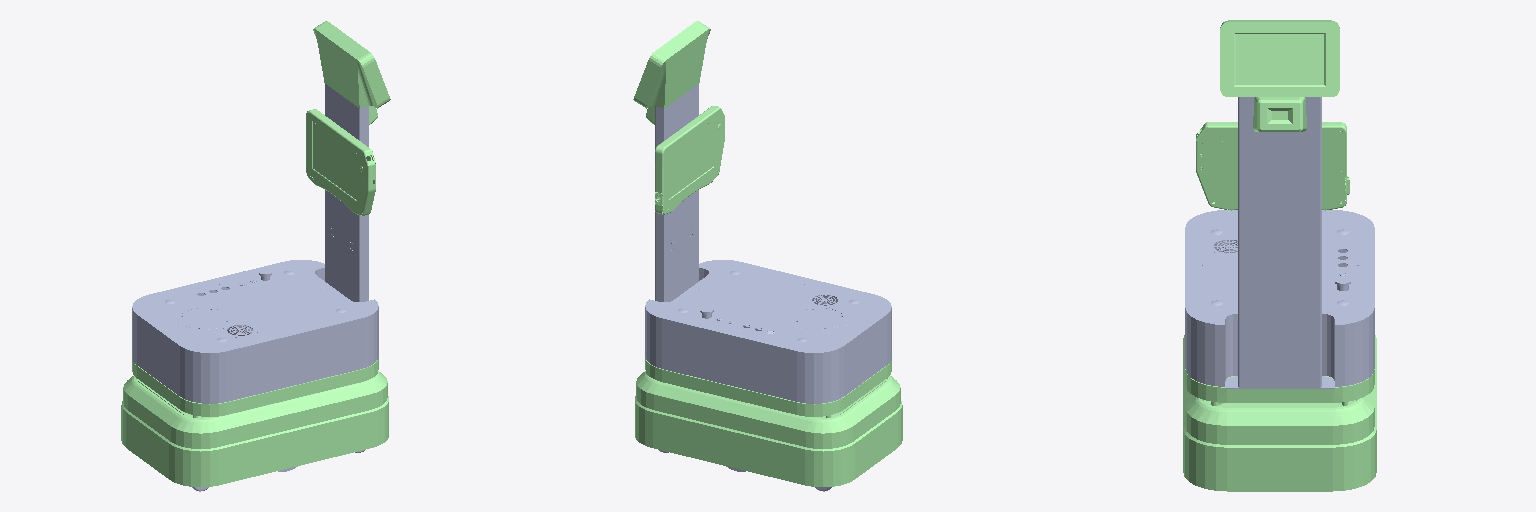
--- Facts derived from the render (not from the file) ---
Views: 3 orthographic renders of the robot side by side, from view 1: azimuth 30°, elevation 25°; view 2: azimuth 150°, elevation 25°; view 3: azimuth 270°, elevation 25°.
Model ax6113final with 14 links and 13 joints (10 continuous, 3 fixed), rooted at base_footprint, posed every joint at zero.
Visible links, largest first — view 1: cabin, chassis; view 2: cabin, chassis; view 3: cabin, chassis.
Link boxes in pixels (box(x1,y1,x2,y2)): cabin: box(132, 84, 378, 403); chassis: box(121, 21, 390, 486); cabin: box(645, 84, 891, 403); chassis: box(633, 21, 902, 486); cabin: box(1185, 97, 1374, 388); chassis: box(1183, 20, 1376, 491).
Bounding box of the posed robot: 0.7432 × 0.46 × 1.24 m (x, y, z).
Meshes: 13 distinct files referenced, 13 mesh visuals loaded (13 binary STL).

URDF robot description (ax6113final):
<?xml version="1.0" encoding="utf-8"?>
<!-- This URDF was automatically created by SolidWorks to URDF Exporter! Originally created by Stephen Brawner ([email redacted]) 
     Commit Version: 1.6.0-4-g7f85cfe  Build Version: 1.6.7995.38578
     For more information, please see http://wiki.ros.org/sw_urdf_exporter -->
<robot
  name="ax6113final">
  <link
    name="base_footprint">

  </link>
  <link
    name="chassis">
    <inertial>
      <origin
        xyz="-0.0061677633792033 -7.36965152760838E-05 0.086667587274659"
        rpy="0 0 0" />
      <mass
        value="119.2695104108364" />
      <inertia
        ixx="0.26409748280951"
        ixy="0.000400164588261267"
        ixz="0.00147157353940033"
        iyy="0.603892272508937"
        iyz="0.000102408582079296"
        izz="0.822504402380331" />
    </inertial>
    <visual>
      <origin
        xyz="0 0 0"
        rpy="0 0 0" />
      <geometry>
        <mesh
          filename="package://ax6113final/meshes/base_link.STL" />
      </geometry>
      <material
        name="">
        <color
          rgba="0.741176470588235 1 0.741176470588235 1" />
      </material>
    </visual>
    <collision>
      <origin
        xyz="0 0 0"
        rpy="0 0 0" />
      <geometry>
        <mesh
          filename="package://ax6113final/meshes/base_link.STL" />
      </geometry>
    </collision>
  </link>
  <joint
    name="base_link_it"
    type="fixed">
    <origin
      xyz="0 0 0"
      rpy="0 0 0" />
    <parent
      link="base_footprint" />
    <child
      link="chassis" />
    <axis
      xyz="0 0 0" />
  </joint>  
  <link
    name="left_wheel">
    <inertial>
      <origin
        xyz="-1.49880108324396E-15 -1.67921232474555E-15 0.0399999999999999"
        rpy="0 0 0" />
      <mass
        value="1.28203160205244" />
      <inertia
        ixx="0.00231577757345468"
        ixy="-4.31280942310315E-20"
        ixz="1.92674672986061E-30"
        iyy="0.00231577757345468"
        iyz="-1.41023922860637E-23"
        izz="0.00362433959821745" />
    </inertial>
    <visual>
      <origin
        xyz="0 0 0"
        rpy="0 0 0" />
      <geometry>
        <mesh
          filename="package://ax6113final/meshes/left_wheel.STL" />
      </geometry>
      <material
        name="">
        <color
          rgba="0.792156862745098 0.819607843137255 0.933333333333333 1" />
      </material>
    </visual>
    <collision>
      <origin
        xyz="0 0 0"
        rpy="0 0 0" />
      <geometry>
        <mesh
          filename="package://ax6113final/meshes/left_wheel.STL" />
      </geometry>
    </collision>
  </link>
  <joint
    name="wheel_left_joint"
    type="continuous">
    <origin
      xyz="-0.00017343 0.122 -0.025"
      rpy="-1.5708 0 0" />
    <parent
      link="chassis" />
    <child
      link="left_wheel" />
    <axis
      xyz="0 0 1" />

  </joint>
  <link
    name="right_wheel">
    <inertial>
      <origin
        xyz="-1.49880108324396E-15 1.67921232474555E-15 0.04"
        rpy="0 0 0" />
      <mass
        value="1.28203160205243" />
      <inertia
        ixx="0.00231577757345468"
        ixy="-2.39856156124579E-19"
        ixz="3.33907854319744E-20"
        iyy="0.00231577757345468"
        iyz="3.35466292051951E-20"
        izz="0.00362433959821744" />
    </inertial>
    <visual>
      <origin
        xyz="0 0 0"
        rpy="0 0 0" />
      <geometry>
        <mesh
          filename="package://ax6113final/meshes/right_wheel.STL" />
      </geometry>
      <material
        name="">
        <color
          rgba="0.792156862745098 0.819607843137255 0.933333333333333 1" />
      </material>
    </visual>
    <collision>
      <origin
        xyz="0 0 0"
        rpy="0 0 0" />
      <geometry>
        <mesh
          filename="package://ax6113final/meshes/right_wheel.STL" />
      </geometry>
    </collision>
  </link>
  <joint
    name="wheel_right_joint"
    type="continuous">
    <origin
      xyz="-0.00017343 -0.122 -0.025"
      rpy="1.5708 0 0" />
    <parent
      link="chassis" />
    <child
      link="right_wheel" />
    <axis
      xyz="0 0 -1" />

  </joint>
  <link
    name="caster_fl">
    <inertial>
      <origin
        xyz="-9.49507084806456E-05 -1.26961278157367E-08 -0.0220751390633198"
        rpy="0 0 0" />
      <mass
        value="0.050730191615594" />
      <inertia
        ixx="2.13076622270567E-05"
        ixy="-4.77236871564436E-12"
        ixz="-2.15459258559363E-07"
        iyy="2.12936580597202E-05"
        iyz="-3.19013832586914E-11"
        izz="9.21167172451167E-06" />
    </inertial>
    <visual>
      <origin
        xyz="0 0 0"
        rpy="0 0 0" />
      <geometry>
        <mesh
          filename="package://ax6113final/meshes/caster_fl.STL" />
      </geometry>
      <material
        name="">
        <color
          rgba="0.792156862745098 0.819607843137255 0.933333333333333 1" />
      </material>
    </visual>
    <collision>
      <origin
        xyz="0 0 0"
        rpy="0 0 0" />
      <geometry>
        <mesh
          filename="package://ax6113final/meshes/caster_fl.STL" />
      </geometry>
    </collision>
  </link>
  <joint
    name="caster_fl_joint"
    type="continuous">
    <origin
      xyz="0.27024 0.1595 0"
      rpy="0 0 0" />
    <parent
      link="chassis" />
    <child
      link="caster_fl" />
    <axis
      xyz="0 0 -1" />
    <dynamics
      damping="0.01"
      friction="0.5" />
  </joint>
  <link
    name="caster_fl_wheel">
    <inertial>
      <origin
        xyz="0 0 0.0275"
        rpy="0 0 0" />
      <mass
        value="1.17460228082973" />
      <inertia
        ixx="0.000104635302988195"
        ixy="7.06845372568766E-38"
        ixz="-6.13296480894052E-21"
        iyy="0.000104635302988195"
        iyz="-1.83670992315982E-37"
        izz="9.9322531726992E-05" />
    </inertial>
    <visual>
      <origin
        xyz="0 0 0"
        rpy="0 0 0" />
      <geometry>
        <mesh
          filename="package://ax6113final/meshes/caster_fl_wheel.STL" />
      </geometry>
      <material
        name="">
        <color
          rgba="0.792156862745098 0.819607843137255 0.933333333333333 1" />
      </material>
    </visual>
    <collision>
      <origin
        xyz="0 0 0"
        rpy="0 0 0" />
      <geometry>
        <mesh
          filename="package://ax6113final/meshes/caster_fl_wheel.STL" />
      </geometry>
    </collision>
  </link>
  <joint
    name="caster_fl_wheel_joint"
    type="continuous">
    <origin
      xyz="-0.025 -0.0275 -0.067"
      rpy="-1.5708 0 0" />
    <parent
      link="caster_fl" />
    <child
      link="caster_fl_wheel" />
    <axis
      xyz="0 0 -1" />

  </joint>
  <link
    name="caster_fr">
    <inertial>
      <origin
        xyz="-9.49507084806456E-05 -1.26961278296145E-08 -0.0220751390633199"
        rpy="0 0 0" />
      <mass
        value="0.0507301916155941" />
      <inertia
        ixx="2.13076622270568E-05"
        ixy="-4.77236871446618E-12"
        ixz="-2.15459258559358E-07"
        iyy="2.12936580597203E-05"
        iyz="-3.19013832894133E-11"
        izz="9.21167172451168E-06" />
    </inertial>
    <visual>
      <origin
        xyz="0 0 0"
        rpy="0 0 0" />
      <geometry>
        <mesh
          filename="package://ax6113final/meshes/caster_fr.STL" />
      </geometry>
      <material
        name="">
        <color
          rgba="0.792156862745098 0.819607843137255 0.933333333333333 1" />
      </material>
    </visual>
    <collision>
      <origin
        xyz="0 0 0"
        rpy="0 0 0" />
      <geometry>
        <mesh
          filename="package://ax6113final/meshes/caster_fr.STL" />
      </geometry>
    </collision>
  </link>
  <joint
    name="caster_fr_joint"
    type="continuous">
    <origin
      xyz="0.27024 -0.1595 0"
      rpy="0 0 0" />
    <parent
      link="chassis" />
    <child
      link="caster_fr" />
    <axis
      xyz="0 0 1" />
    <dynamics
      damping="0.01"
      friction="0.5" />
  </joint>
  <link
    name="caster_fr_wheel">
    <inertial>
      <origin
        xyz="1.11022302462516E-16 0 0.0275"
        rpy="0 0 0" />
      <mass
        value="1.17460228082973" />
      <inertia
        ixx="0.000104635302988195"
        ixy="-7.06845372568759E-38"
        ixz="3.38010773036404E-21"
        iyy="0.000104635302988195"
        iyz="3.67341984631965E-37"
        izz="9.9322531726992E-05" />
    </inertial>
    <visual>
      <origin
        xyz="0 0 0"
        rpy="0 0 0" />
      <geometry>
        <mesh
          filename="package://ax6113final/meshes/caster_fr_wheel.STL" />
      </geometry>
      <material
        name="">
        <color
          rgba="0.792156862745098 0.819607843137255 0.933333333333333 1" />
      </material>
    </visual>
    <collision>
      <origin
        xyz="0 0 0"
        rpy="0 0 0" />
      <geometry>
        <mesh
          filename="package://ax6113final/meshes/caster_fr_wheel.STL" />
      </geometry>
    </collision>
  </link>
  <joint
    name="caster_fr_wheel_joint"
    type="continuous">
    <origin
      xyz="-0.025 0.0275 -0.067"
      rpy="1.5708 0 0" />
    <parent
      link="caster_fr" />
    <child
      link="caster_fr_wheel" />
    <axis
      xyz="0 0 1" />

  </joint>
  <link
    name="caster_bl">
    <inertial>
      <origin
        xyz="-9.49507084806317E-05 -1.26961278157367E-08 -0.0220751390633199"
        rpy="0 0 0" />
      <mass
        value="0.050730191615594" />
      <inertia
        ixx="2.13076622270567E-05"
        ixy="-4.77236871442357E-12"
        ixz="-2.15459258559362E-07"
        iyy="2.12936580597203E-05"
        iyz="-3.19013832734618E-11"
        izz="9.21167172451167E-06" />
    </inertial>
    <visual>
      <origin
        xyz="0 0 0"
        rpy="0 0 0" />
      <geometry>
        <mesh
          filename="package://ax6113final/meshes/caster_bl.STL" />
      </geometry>
      <material
        name="">
        <color
          rgba="0.792156862745098 0.819607843137255 0.933333333333333 1" />
      </material>
    </visual>
    <collision>
      <origin
        xyz="0 0 0"
        rpy="0 0 0" />
      <geometry>
        <mesh
          filename="package://ax6113final/meshes/caster_bl.STL" />
      </geometry>
    </collision>
  </link>
  <joint
    name="caster_bl_joint"
    type="continuous">
    <origin
      xyz="-0.25726 0.1595 0"
      rpy="0 0 0" />
    <parent
      link="chassis" />
    <child
      link="caster_bl" />
    <axis
      xyz="0 0 -1" />
    <dynamics
      damping="0.01"
      friction="0.5" />
  </joint>
  <link
    name="caster_bl_wheel">
    <inertial>
      <origin
        xyz="0 0 0.0275000000000001"
        rpy="0 0 0" />
      <mass
        value="1.17460228082973" />
      <inertia
        ixx="0.000104635302988195"
        ixy="-2.18320536339829E-22"
        ixz="-3.40426455200137E-21"
        iyy="0.000104635302988195"
        iyz="-2.93213903879748E-23"
        izz="9.9322531726992E-05" />
    </inertial>
    <visual>
      <origin
        xyz="0 0 0"
        rpy="0 0 0" />
      <geometry>
        <mesh
          filename="package://ax6113final/meshes/caster_bl_wheel.STL" />
      </geometry>
      <material
        name="">
        <color
          rgba="0.792156862745098 0.819607843137255 0.933333333333333 1" />
      </material>
    </visual>
    <collision>
      <origin
        xyz="0 0 0"
        rpy="0 0 0" />
      <geometry>
        <mesh
          filename="package://ax6113final/meshes/caster_bl_wheel.STL" />
      </geometry>
    </collision>
  </link>
  <joint
    name="caster_bl_wheel_joint"
    type="continuous">
    <origin
      xyz="-0.025 -0.0275 -0.067"
      rpy="-1.5708 0 0" />
    <parent
      link="caster_bl" />
    <child
      link="caster_bl_wheel" />
    <axis
      xyz="0 0 -1" />

  </joint>
  <link
    name="caster_br">
    <inertial>
      <origin
        xyz="-9.49507084806178E-05 -1.26961278018589E-08 -0.0220751390633198"
        rpy="0 0 0" />
      <mass
        value="0.050730191615594" />
      <inertia
        ixx="2.13076622270566E-05"
        ixy="-4.77236871365657E-12"
        ixz="-2.15459258559352E-07"
        iyy="2.12936580597202E-05"
        iyz="-3.19013832878592E-11"
        izz="9.21167172451169E-06" />
    </inertial>
    <visual>
      <origin
        xyz="0 0 0"
        rpy="0 0 0" />
      <geometry>
        <mesh
          filename="package://ax6113final/meshes/caster_br.STL" />
      </geometry>
      <material
        name="">
        <color
          rgba="0.792156862745098 0.819607843137255 0.933333333333333 1" />
      </material>
    </visual>
    <collision>
      <origin
        xyz="0 0 0"
        rpy="0 0 0" />
      <geometry>
        <mesh
          filename="package://ax6113final/meshes/caster_br.STL" />
      </geometry>
    </collision>
  </link>
  <joint
    name="caster_br_joint"
    type="continuous">
    <origin
      xyz="-0.25726 -0.1595 0"
      rpy="0 0 0" />
    <parent
      link="chassis" />
    <child
      link="caster_br" />
    <axis
      xyz="0 0 -1" />
    <dynamics
      damping="0.01"
      friction="0.5" />
  </joint>
  <link
    name="caster_br_wheel">
    <inertial>
      <origin
        xyz="0 8.67361737988404E-19 0.0274999999999999"
        rpy="0 0 0" />
      <mass
        value="1.17460228082973" />
      <inertia
        ixx="0.000104635302988195"
        ixy="2.50084271861865E-22"
        ixz="3.39768762188313E-21"
        iyy="0.000104635302988195"
        iyz="-1.77704802405951E-23"
        izz="9.9322531726992E-05" />
    </inertial>
    <visual>
      <origin
        xyz="0 0 0"
        rpy="0 0 0" />
      <geometry>
        <mesh
          filename="package://ax6113final/meshes/caster_br_wheel.STL" />
      </geometry>
      <material
        name="">
        <color
          rgba="0.792156862745098 0.819607843137255 0.933333333333333 1" />
      </material>
    </visual>
    <collision>
      <origin
        xyz="0 0 0"
        rpy="0 0 0" />
      <geometry>
        <mesh
          filename="package://ax6113final/meshes/caster_br_wheel.STL" />
      </geometry>
    </collision>
  </link>
  <joint
    name="caster_br_wheel_joint"
    type="continuous">
    <origin
      xyz="-0.025 0.0275 -0.067"
      rpy="1.5708 0 0" />
    <parent
      link="caster_br" />
    <child
      link="caster_br_wheel" />
    <axis
      xyz="0 0 1" />

  </joint>
  <link
    name="cabin">
    <inertial>
      <origin
        xyz="0.1 0.380318965024053 0.0176873782655099"
        rpy="0 0 0" />
      <mass
        value="5.44372411947952" />
      <inertia
        ixx="0.276045180016053"
        ixy="-8.88033322182947E-17"
        ixz="-1.73633908902948E-18"
        iyy="0.0187935661671801"
        iyz="0.000362046000427621"
        izz="0.293672513292604" />
    </inertial>
    <visual>
      <origin
        xyz="0 0 0"
        rpy="0 0 0" />
      <geometry>
        <mesh
          filename="package://ax6113final/meshes/cabin.STL" />
      </geometry>
      <material
        name="">
        <color
          rgba="0.792156862745098 0.819607843137255 0.933333333333333 1" />
      </material>
    </visual>
    <collision>
      <origin
        xyz="0 0 0"
        rpy="0 0 0" />
      <geometry>
        <mesh
          filename="package://ax6113final/meshes/cabin.STL" />
      </geometry>
    </collision>
  </link>
  <joint
    name="cabin_joint"
    type="fixed">
    <origin
      xyz="0.325 0.1 0.183"
      rpy="1.5707963267949 0 -1.5707963267949" />
    <parent
      link="chassis" />
    <child
      link="cabin" />
    <axis
      xyz="0 0 0" />
  </joint>
    <link
    name="lidar">
    <inertial>
      <origin
        xyz="-2.77555756156289E-17 0 -0.005"
        rpy="0 0 0" />
      <mass
        value="0.000785398163397448" />
      <inertia
        ixx="1.14537232162128E-08"
        ixy="0"
        ixz="0"
        iyy="1.14537232162128E-08"
        iyz="0"
        izz="9.8174770424681E-09" />
    </inertial>
    <visual>
      <origin
        xyz="0 0 0"
        rpy="0 0 0" />
      <geometry>
        <mesh
          filename="package://autoxing/meshes/lidar.STL" />
      </geometry>
      <material
        name="">
        <color
          rgba="0.792156862745098 0.819607843137255 0.933333333333333 1" />
      </material>
    </visual>
    <collision>
      <origin
        xyz="0 0 0"
        rpy="0 0 0" />
      <geometry>
        <mesh
          filename="package://autoxing/meshes/lidar.STL" />
      </geometry>
    </collision>
  </link>
  <joint
    name="lidar_joint"
    type="fixed">
    <origin
      xyz="0.00671416680612409 0.00186793926091405 0.138"
      rpy="0 0 0" />
    <parent
      link="chassis" />
    <child
      link="lidar" />
    <axis
      xyz="0 0 0" />
  </joint>
   <!-- hokuyo -->
  <gazebo reference="lidar">
    <sensor type="ray" name="sensor">
      <pose>0 0 0 0 0 0</pose>
      <visualize>false</visualize>
      <update_rate>40</update_rate>
      <ray>
        <scan>
          <horizontal>
            <samples>720</samples>
            <resolution>1</resolution>
            <min_angle>-1.570796</min_angle>
            <max_angle>1.570796</max_angle> <!-- 1.570796 4.712388-->
          </horizontal>
        </scan>
        <range>
          <min>0.10</min>
          <max>30.0</max>
          <resolution>0.01</resolution>
        </range>
        <noise>
          <type>gaussian</type>
          <!-- Noise parameters based on published spec for Hokuyo laser
               achieving "+-30mm" accuracy at range < 10m.  A mean of 0.0m and
               stddev of 0.01m will put 99.7% of samples within 0.03m of the true
               reading. -->
          <mean>0.0</mean>
          <stddev>0.01</stddev>
        </noise>
      </ray>
      
      <plugin name="hokuyo_node" filename="libgazebo_ros_laser.so">
        <topicName>/laser/scan</topicName>
        <frameName>lidar</frameName>
      </plugin> 
    </sensor>
  </gazebo>
    <!--adding color-->
     <gazebo reference="chassis">
  	<material>Gazebo/Turquoise </material>
  </gazebo>

  <gazebo reference="left_wheel">
  	<mu1>200.0</mu1>
  	<mu2>200.0</mu2>
  	<kp>10000000</kp>
  	<kd>1.0</kd>
  	<material>Gazebo/FlatBlack</material>
  </gazebo>
   <gazebo reference="right_wheel">
  	<mu1>200.0</mu1>
  	<mu2>200.0</mu2>
  	<kp>10000000</kp>
  	<kd>1.0</kd>   
  	<material>Gazebo/FlatBlack</material>
  </gazebo>

   <gazebo reference="caster_fl_wheel">
  	<mu1>0.01</mu1>
  	<mu2>0.01</mu2>
  	<kp>10000000</kp>
  	<kd>1.0</kd>   
  	<material>Gazebo/FlatBlack</material>
  </gazebo>
   <gazebo reference="caster_fr_wheel">
  	<mu1>0.01</mu1>
  	<mu2>0.01</mu2>
  	<kp>10000000</kp>
  	<kd>1.0</kd>   
  	<material>Gazebo/FlatBlack</material>
  </gazebo>
   <gazebo reference="caster_bl_wheel">
  	<mu1>0.01</mu1>
  	<mu2>0.01</mu2>
  	<kp>10000000</kp>
  	<kd>1.0</kd>   
  	<material>Gazebo/FlatBlack</material>
  </gazebo>
   <gazebo reference="caster_br_wheel">
    <mu1>0.01</mu1>
  	<mu2>0.01</mu2>
  	<kp>10000000</kp>
  	<kd>1.0</kd> 
  	<material>Gazebo/FlatBlack</material>
  </gazebo>
   <!-- adding diff drive -->
   <gazebo>
     <plugin name="diff_drive_controller" filename="libgazebo_ros_diff_drive.so">
        <legacyMode>false</legacyMode>
        <alwaysOn>true</alwaysOn>
        <updateRate>50</updateRate>
        <leftJoint>wheel_left_joint</leftJoint>
        <rightJoint>wheel_right_joint</rightJoint>
        <wheelSeparation>0.445208</wheelSeparation>
        <wheelDiameter>0.16</wheelDiameter>
        <wheelTorque>10</wheelTorque>
        <publishTf>1</publishTf>
        <odometryFrame>odom</odometryFrame>
        <commandTopic>cmd_vel</commandTopic>
        <odometryTopic>odom</odometryTopic>
        <robotBaseFrame>base_footprint</robotBaseFrame>
        <wheelAcceleration>2.8</wheelAcceleration>
        <publishWheelJointState>true</publishWheelJointState>
        <publishWheelTF>false</publishWheelTF>
        <odometrySource>odom</odometrySource>
        <rosDebugLevel>Debug</rosDebugLevel>
      </plugin>
    </gazebo> 
    
   <transmission name="left_wheel_trans">
    <type>transmission_interface/SimpleTransmission</type>
    <joint name="wheel_left_joint">
      <hardwareInterface>hardware_interface/VelocityJointInterface</hardwareInterface>
    </joint>
    <actuator name="left_wheel_motor">
      <hardwareInterface>hardware_interface/VelocityJointInterface</hardwareInterface>
      <mechanicalReduction>1</mechanicalReduction>
    </actuator>
  </transmission>
  <transmission name="right_wheel_trans">
    <type>transmission_interface/SimpleTransmission</type>
    <joint name="wheel_right_joint">
      <hardwareInterface>hardware_interface/VelocityJointInterface</hardwareInterface>
    </joint>
    <actuator name="right_wheel_motor">
      <hardwareInterface>hardware_interface/VelocityJointInterface</hardwareInterface>
      <mechanicalReduction>1</mechanicalReduction>
    </actuator>
  </transmission>      
     <gazebo>
    <plugin filename="libgazebo_ros_p3d.so" name="p3d_base_controller">
      <alwaysOn>true</alwaysOn>
      <updateRate>50.0</updateRate>
      <bodyName>base_footprint</bodyName>
      <topicName>base_pose_ground_truth</topicName>
      <gaussianNoise>0.01</gaussianNoise>
      <frameName>map</frameName>
      <xyzOffsets>0 0 0</xyzOffsets>
      <rpyOffsets>0 0 0</rpyOffsets>
    </plugin>
  </gazebo>
  <gazebo>
    <plugin filename="libgazebo_ros_control.so" name="gazebo_ros_control">
      <controlPeriod>0.001</controlPeriod>
      <legacyModeNS>false</legacyModeNS>
    </plugin>
  </gazebo>    

      <transmission name="trans_casterhub_front_left_joint">
        <type>transmission_interface/SimpleTransmission</type>
        <joint name="caster_fl_joint">
            <hardwareInterface>hardware_interface/EffortJointInterface</hardwareInterface>
        </joint>
        <actuator name="casterhub_front_left_joint_motor">
            <hardwareInterface>hardware_interface/EffortJointInterface</hardwareInterface>
            <mechanicalReduction>1</mechanicalReduction>
        </actuator>
    </transmission>
    <transmission name="trans_wheel_lf_joint">
        <type>transmission_interface/SimpleTransmission</type>
        <joint name="caster_fl_wheel_joint">
            <hardwareInterface>hardware_interface/EffortJointInterface</hardwareInterface>
        </joint>
        <actuator name="wheel_lf_joint_motor">
            <hardwareInterface>hardware_interface/EffortJointInterface</hardwareInterface>
            <mechanicalReduction>1</mechanicalReduction>
        </actuator>
    </transmission>
    <transmission name="trans_casterhub_front_right_joint">
        <type>transmission_interface/SimpleTransmission</type>
        <joint name="caster_fr_joint">
            <hardwareInterface>hardware_interface/EffortJointInterface</hardwareInterface>
        </joint>
        <actuator name="casterhub_front_right_joint_motor">
            <hardwareInterface>hardware_interface/EffortJointInterface</hardwareInterface>
            <mechanicalReduction>1</mechanicalReduction>
        </actuator>
    </transmission>
    <transmission name="trans_wheel_rf_joint">
        <type>transmission_interface/SimpleTransmission</type>
        <joint name="caster_fr_wheel_joint">
            <hardwareInterface>hardware_interface/EffortJointInterface</hardwareInterface>
        </joint>
        <actuator name="wheel_rf_joint_motor">
            <hardwareInterface>hardware_interface/EffortJointInterface</hardwareInterface>
            <mechanicalReduction>1</mechanicalReduction>
        </actuator>
    </transmission>
    <transmission name="trans_casterhub_back_left_joint">
        <type>transmission_interface/SimpleTransmission</type>
        <joint name="caster_bl_joint">
            <hardwareInterface>hardware_interface/EffortJointInterface</hardwareInterface>
        </joint>
        <actuator name="casterhub_back_left_joint_motor">
            <hardwareInterface>hardware_interface/EffortJointInterface</hardwareInterface>
            <mechanicalReduction>1</mechanicalReduction>
        </actuator>
    </transmission>
    <transmission name="trans_wheel_lb_joint">
        <type>transmission_interface/SimpleTransmission</type>
        <joint name="caster_bl_wheel_joint">
            <hardwareInterface>hardware_interface/EffortJointInterface</hardwareInterface>
        </joint>
        <actuator name="wheel_lb_joint_motor">
            <hardwareInterface>hardware_interface/EffortJointInterface</hardwareInterface>
            <mechanicalReduction>1</mechanicalReduction>
        </actuator>
    </transmission>
    <transmission name="trans_casterhub_back_right_joint">
        <type>transmission_interface/SimpleTransmission</type>
        <joint name="caster_br_joint">
            <hardwareInterface>hardware_interface/EffortJointInterface</hardwareInterface>
        </joint>
        <actuator name="casterhub_back_right_joint_motor">
            <hardwareInterface>hardware_interface/EffortJointInterface</hardwareInterface>
            <mechanicalReduction>1</mechanicalReduction>
        </actuator>
    </transmission>
    <transmission name="trans_wheel_rb_joint">
        <type>transmission_interface/SimpleTransmission</type>
        <joint name="caster_br_wheel_joint">
            <hardwareInterface>hardware_interface/EffortJointInterface</hardwareInterface>
        </joint>
        <actuator name="wheel_rb_joint_motor">
            <hardwareInterface>hardware_interface/EffortJointInterface</hardwareInterface>
            <mechanicalReduction>1</mechanicalReduction>
        </actuator>
    </transmission> 
 
</robot>
